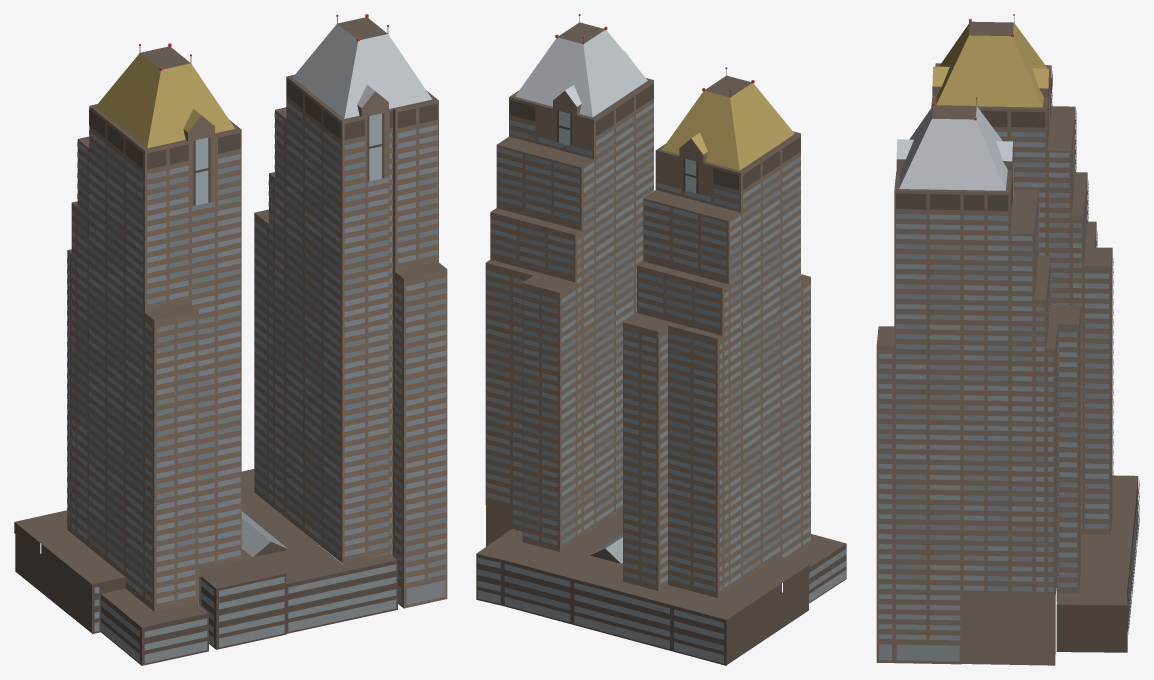
Rendered from bankers-hall-far.glb.
The picture shows the model from 3 angles, left to right: view 1: azimuth 30°, elevation 25°; view 2: azimuth 150°, elevation 25°; view 3: azimuth 270°, elevation 25°; orthographic projection. The views are drawn at different scales.
Visible parts, largest first — view 1: bankers-hall-0-stone, bankers-hall-0-glass, bankers-hall-0-glow, bankers-hall-0-podium, bankers-hall-0-crown, bankers-hall-0-silver, bankers-hall-0-light; view 2: bankers-hall-0-stone, bankers-hall-0-glass, bankers-hall-0-glow, bankers-hall-0-podium, bankers-hall-0-crown, bankers-hall-0-silver, bankers-hall-0-light; view 3: bankers-hall-0-stone, bankers-hall-0-glow, bankers-hall-0-glass, bankers-hall-0-podium, bankers-hall-0-silver, bankers-hall-0-crown.
Boxes of the visible parts, x1=… form: bankers-hall-0-stone: x1=67, y1=77, x2=447, y2=611; bankers-hall-0-glass: x1=67, y1=101, x2=446, y2=663; bankers-hall-0-glow: x1=67, y1=112, x2=446, y2=649; bankers-hall-0-podium: x1=14, y1=17, x2=446, y2=665; bankers-hall-0-crown: x1=95, y1=53, x2=235, y2=148; bankers-hall-0-silver: x1=293, y1=24, x2=432, y2=118; bankers-hall-0-light: x1=195, y1=113, x2=381, y2=205; bankers-hall-0-stone: x1=485, y1=80, x2=810, y2=597; bankers-hall-0-glass: x1=477, y1=103, x2=846, y2=663; bankers-hall-0-glow: x1=477, y1=112, x2=846, y2=651; bankers-hall-0-podium: x1=476, y1=16, x2=846, y2=665; bankers-hall-0-crown: x1=662, y1=83, x2=794, y2=170; bankers-hall-0-silver: x1=515, y1=30, x2=647, y2=117; bankers-hall-0-light: x1=559, y1=111, x2=696, y2=192; bankers-hall-0-stone: x1=876, y1=67, x2=1112, y2=665; bankers-hall-0-glow: x1=878, y1=92, x2=1139, y2=621; bankers-hall-0-glass: x1=878, y1=115, x2=1139, y2=661; bankers-hall-0-podium: x1=876, y1=16, x2=1138, y2=652; bankers-hall-0-silver: x1=896, y1=106, x2=1012, y2=190; bankers-hall-0-crown: x1=932, y1=22, x2=1048, y2=107.
Size of the model in its own units: 114 by 197 by 87.66.
